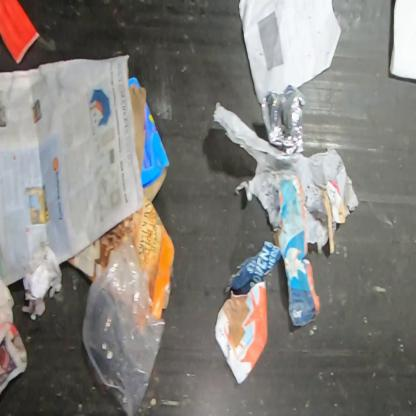cardboard: (67, 188, 176, 320), (128, 75, 170, 202)
metal: (262, 84, 308, 154)
rigid_plastic: (0, 0, 41, 65)
soft_plastic: (212, 101, 361, 253), (81, 234, 167, 415)
